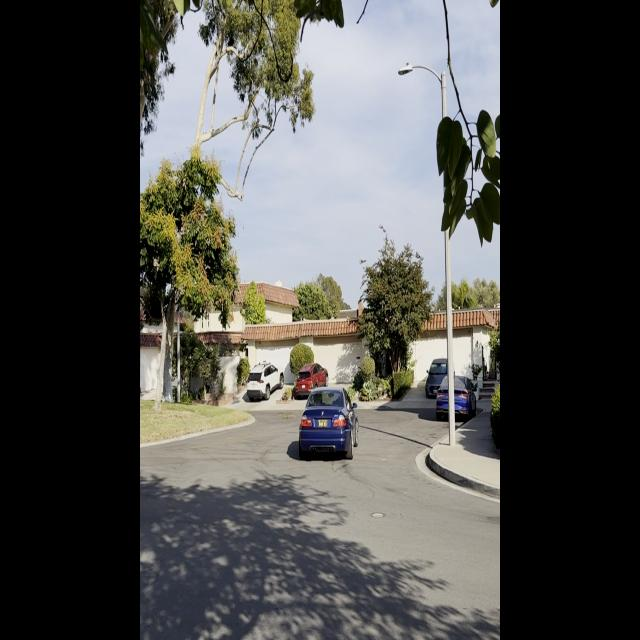Carbeetle: (294, 383, 364, 468)
Civilian: (436, 375, 475, 421), (246, 362, 285, 401), (292, 364, 324, 399), (426, 362, 445, 398)
